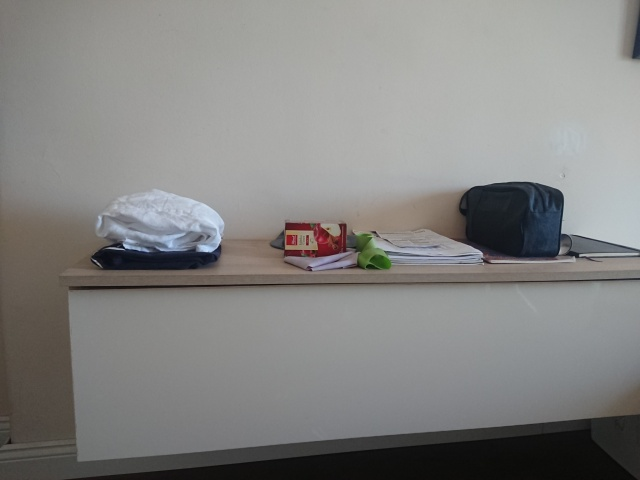Franck Apple Cinnamon Tea 60g: (283, 218, 348, 262)
